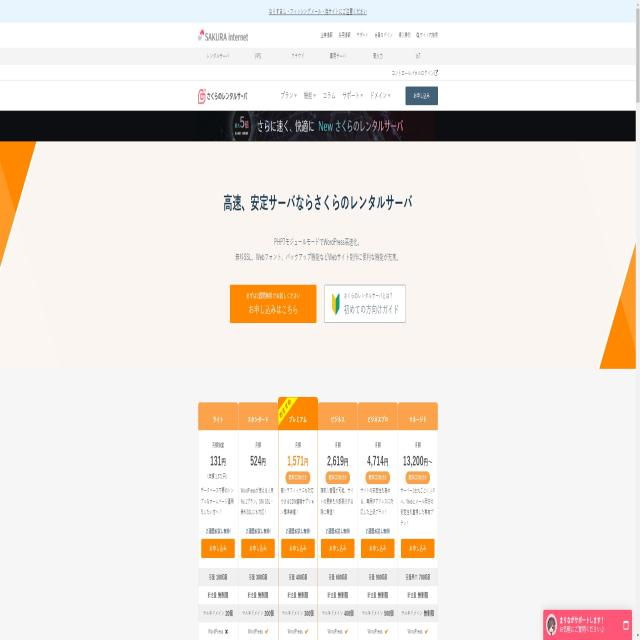menu-bar: (310, 24, 442, 41)
tab-bar: (276, 80, 439, 111), (192, 48, 442, 68)
